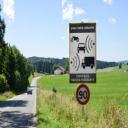speed_limit_90: (77, 85, 90, 104)
